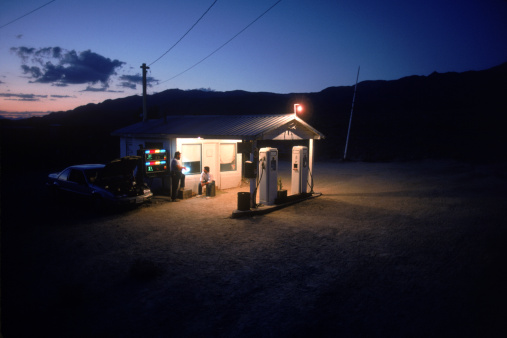car: (44, 154, 156, 216)
